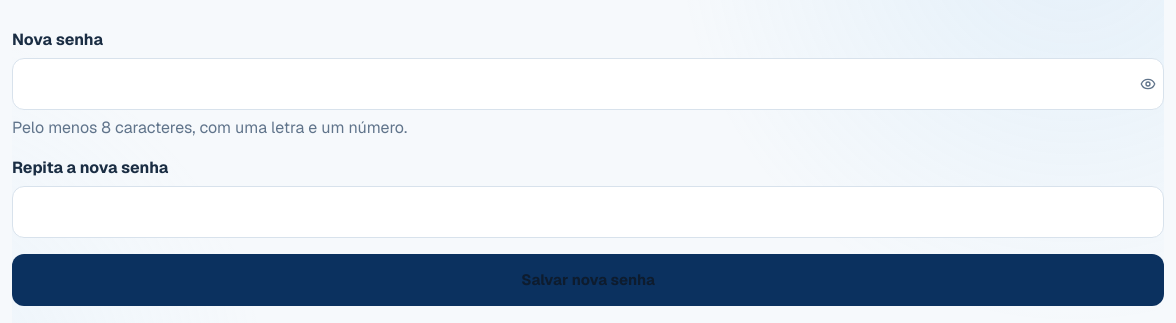
Test: sucesso › mostra o estado de envio enquanto salva
This screenshot has width=1176, height=323.
In the password field labelled "Nova senha": (588, 84) top-left (12, 58), bottom-right (1164, 110), type "clinica2026"
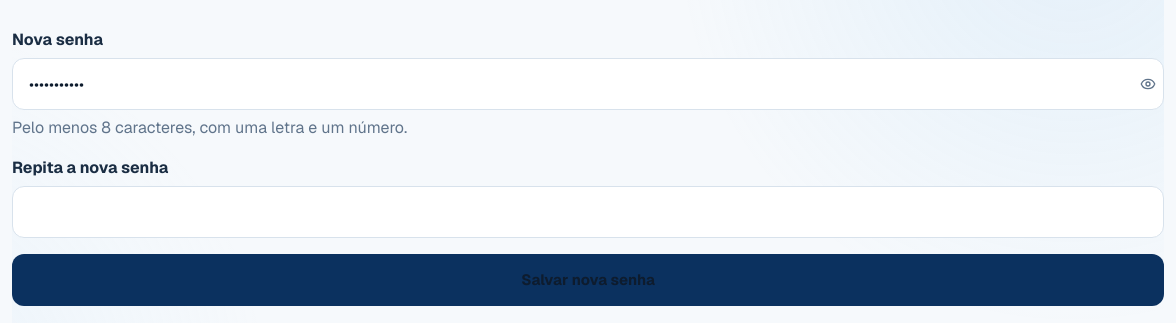
In the password field labelled "Repita a nova senha": (588, 212) top-left (12, 186), bottom-right (1164, 238), type "clinica2026"
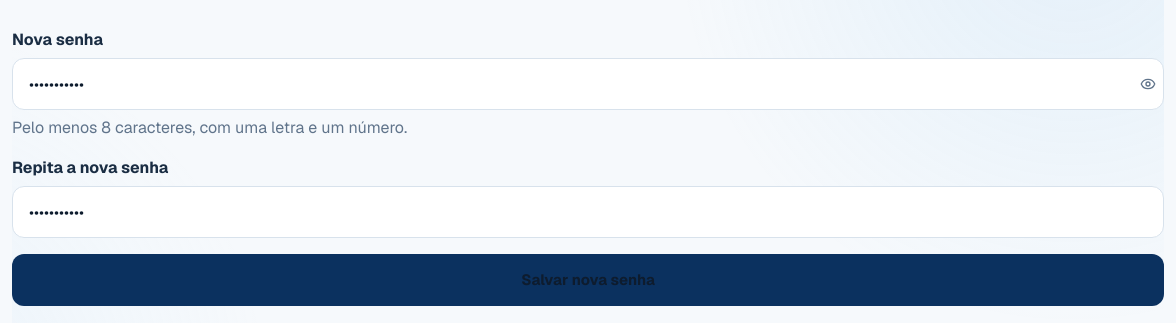
Click the button "Salvar nova senha": (588, 280) top-left (12, 254), bottom-right (1164, 306)
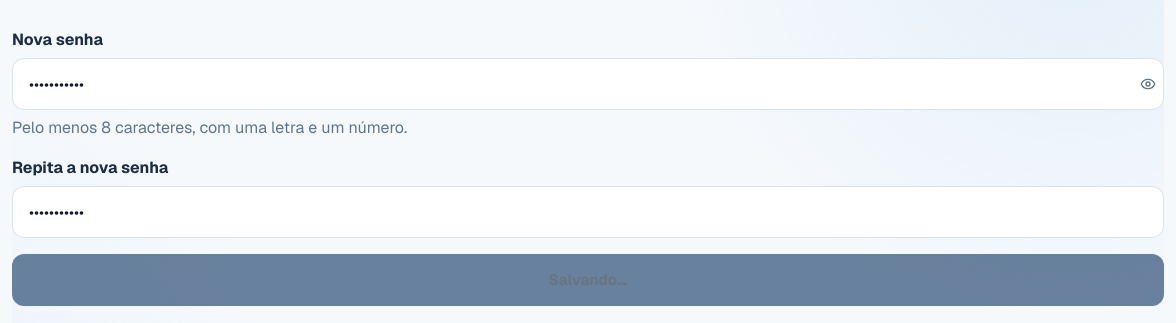
Expected: the button "Salvando…" is disabled, top-left (12, 254), bottom-right (1164, 306)
